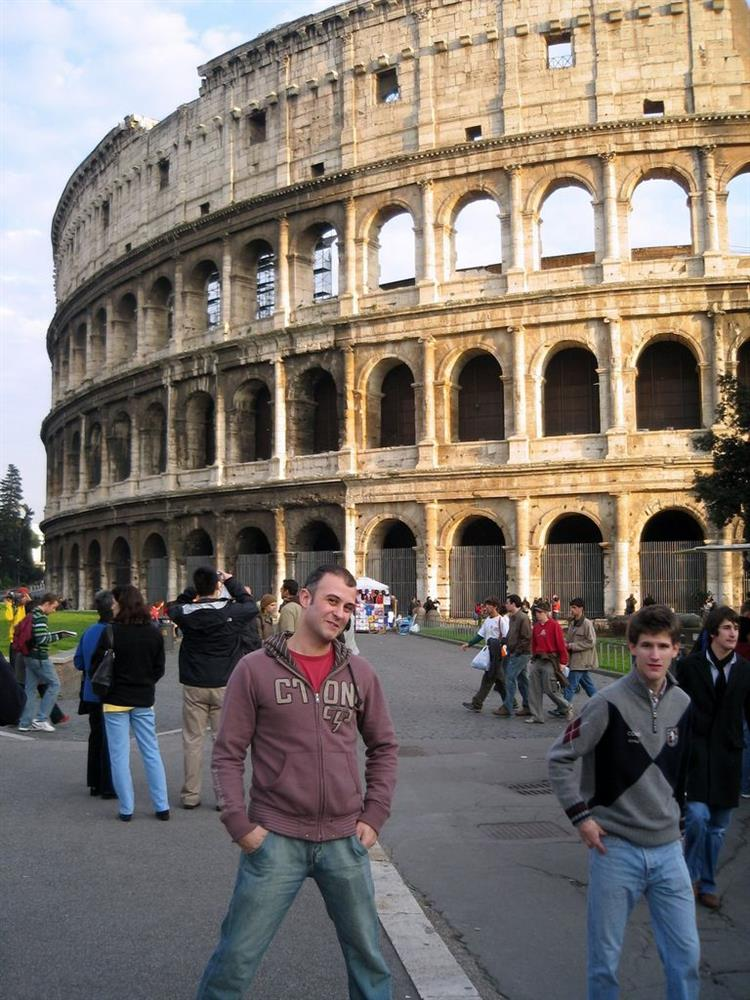Colosseum: (43, 12, 706, 626)
